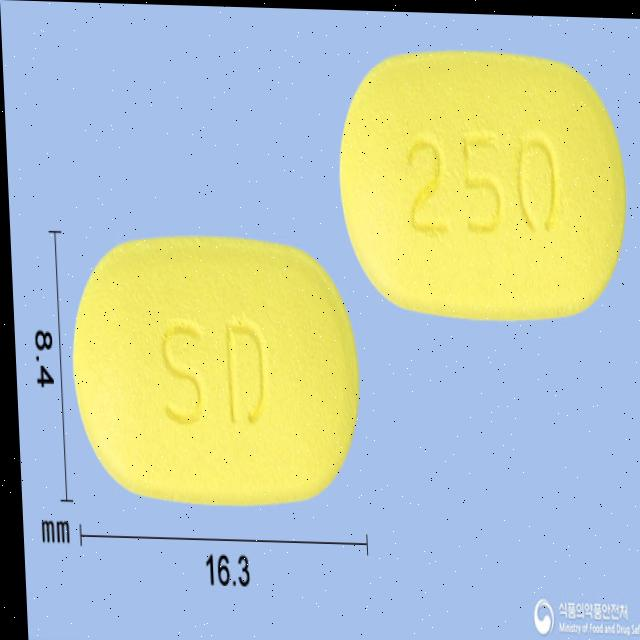Clabio - 500mg: (63, 225, 365, 517), (332, 42, 633, 328)
